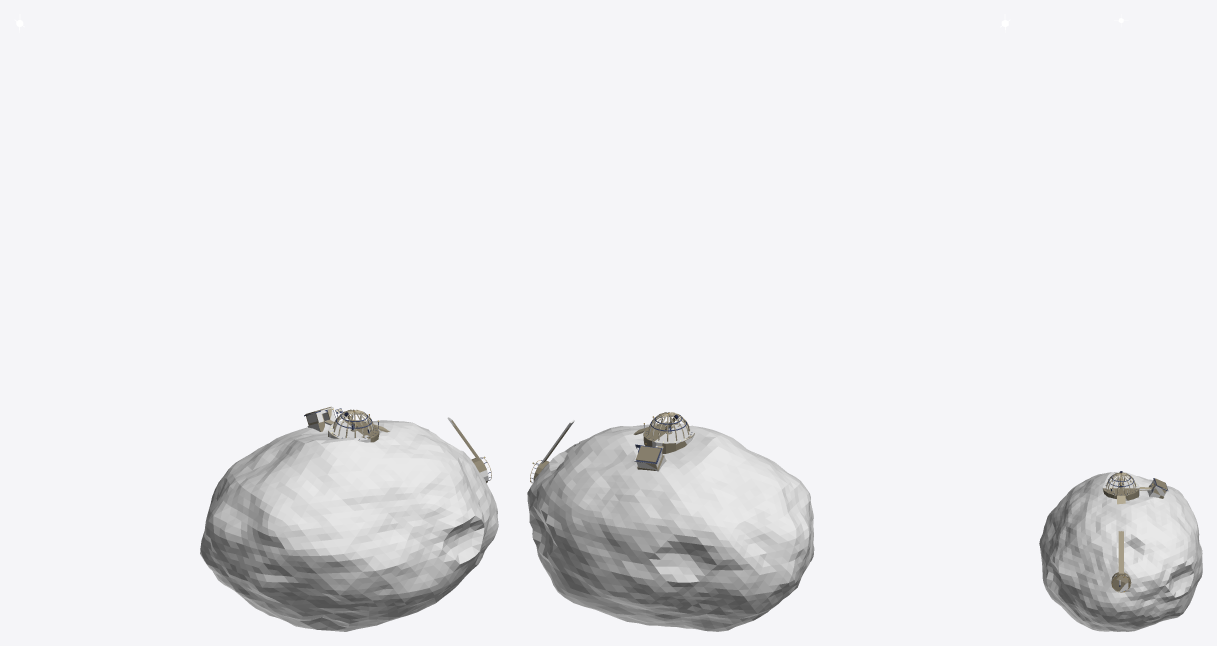
Rendered from observatorio.glb.
The picture shows the model from 3 angles, left to right: view 1: azimuth 30°, elevation 25°; view 2: azimuth 150°, elevation 25°; view 3: azimuth 270°, elevation 25°; orthographic projection. The views are drawn at different scales.
Parts seen in each view (by area): view 1: COL_observatorio_Terreno, observatorio_Lugares, COL_observatorio_Lugares; view 2: COL_observatorio_Terreno, observatorio_Lugares, COL_observatorio_Lugares; view 3: COL_observatorio_Terreno, observatorio_Lugares, COL_observatorio_Lugares.
Boxes of the visible parts, x1,y1,x2,y2 form: COL_observatorio_Terreno: (200, 420, 498, 631); observatorio_Lugares: (304, 406, 491, 482); COL_observatorio_Lugares: (306, 407, 491, 481); COL_observatorio_Terreno: (527, 424, 814, 631); observatorio_Lugares: (530, 412, 694, 482); COL_observatorio_Lugares: (530, 416, 694, 483); COL_observatorio_Terreno: (1039, 471, 1202, 631); observatorio_Lugares: (1103, 471, 1168, 592); COL_observatorio_Lugares: (1102, 475, 1167, 592).
Size of the model in its own units: 133 by 183 by 55.5.
